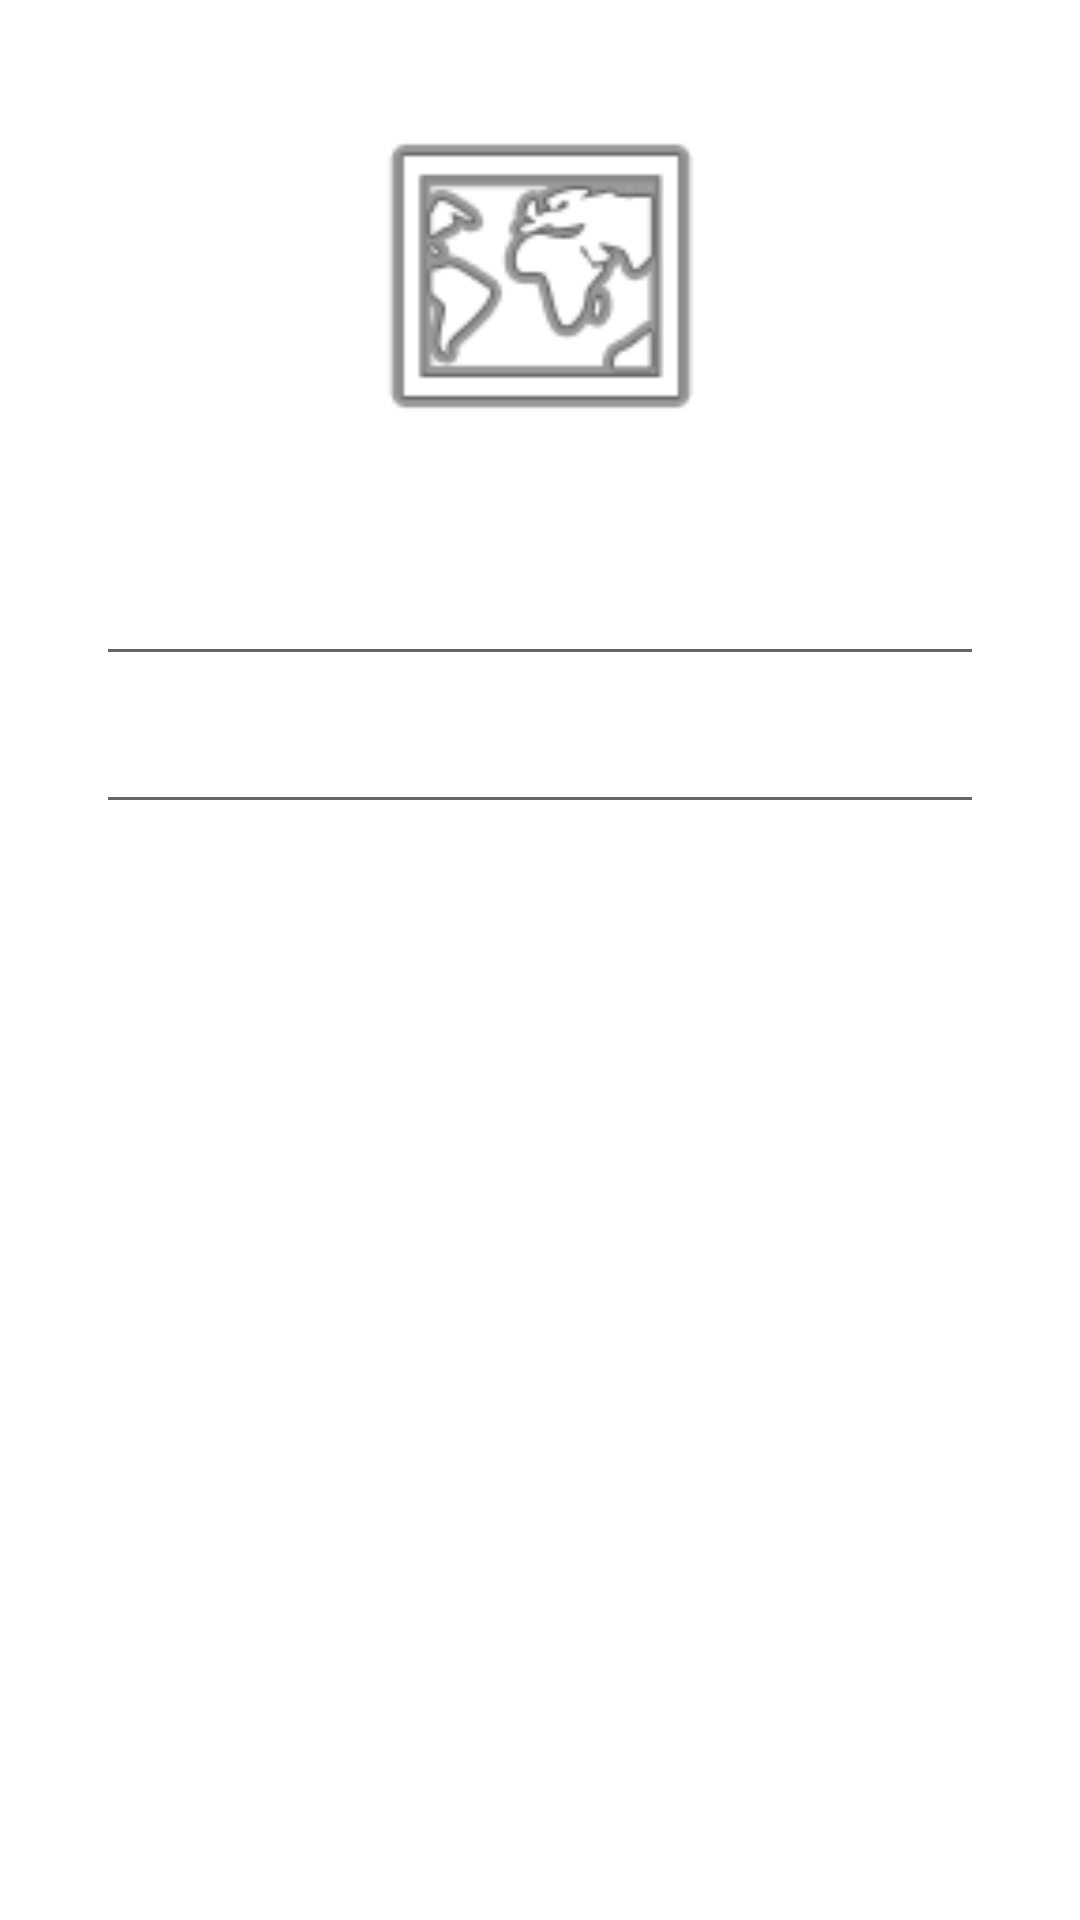

Where icons sit on this 1080px x 1920px app screen, as (left=x1, top=y1, right=x2, bottom=y2):
mapmode: (left=390, top=144, right=691, bottom=408)
